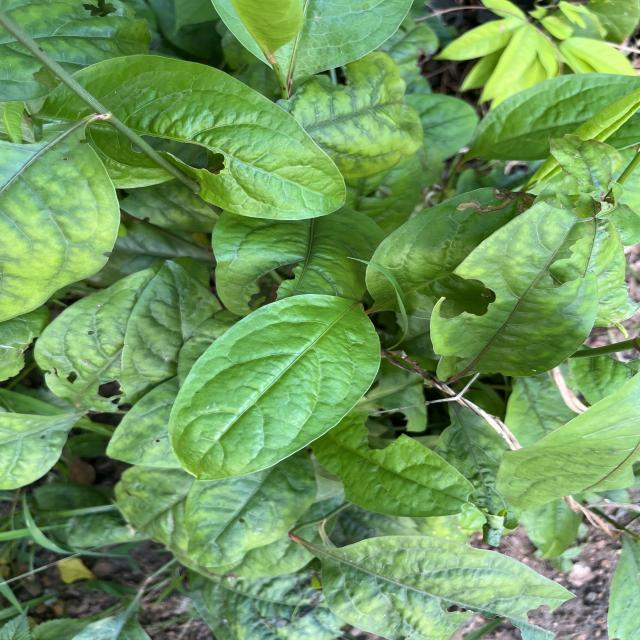Plumbago indica: (37, 52, 350, 224), (164, 291, 384, 485)
